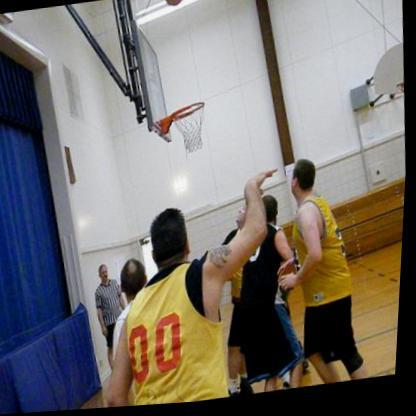basketball: (163, 0, 185, 10)
rim: (171, 103, 207, 125)
